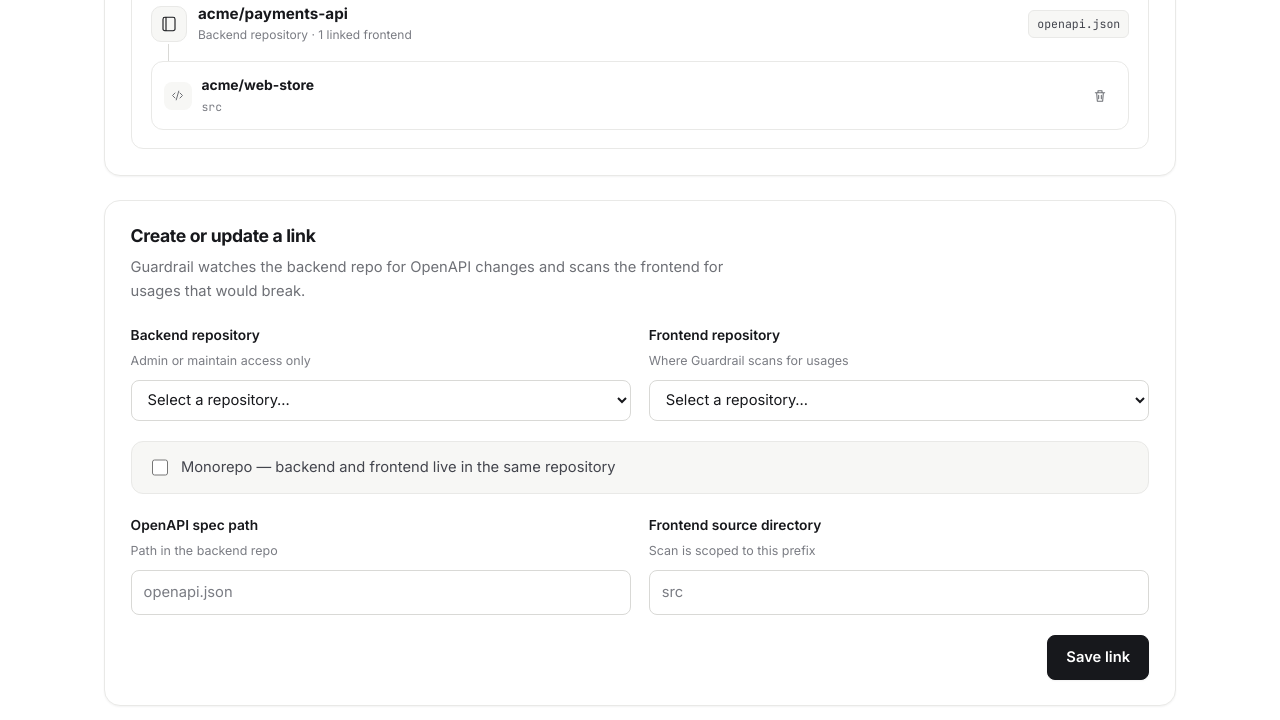
LinkManager › (e) switches the submit label to "Update link" with the replace hint when the selected pair already exists
(page scrolled)
Check: the text "acme/payments-api" is shown, box [198, 4, 348, 23]
Check: the button "Save link" is shown, box [1047, 635, 1149, 680]
Select "acme/payments-api" in the dropdown labelled "Backend repository Admin or maintain access only": (381,400) [131, 380, 631, 421]
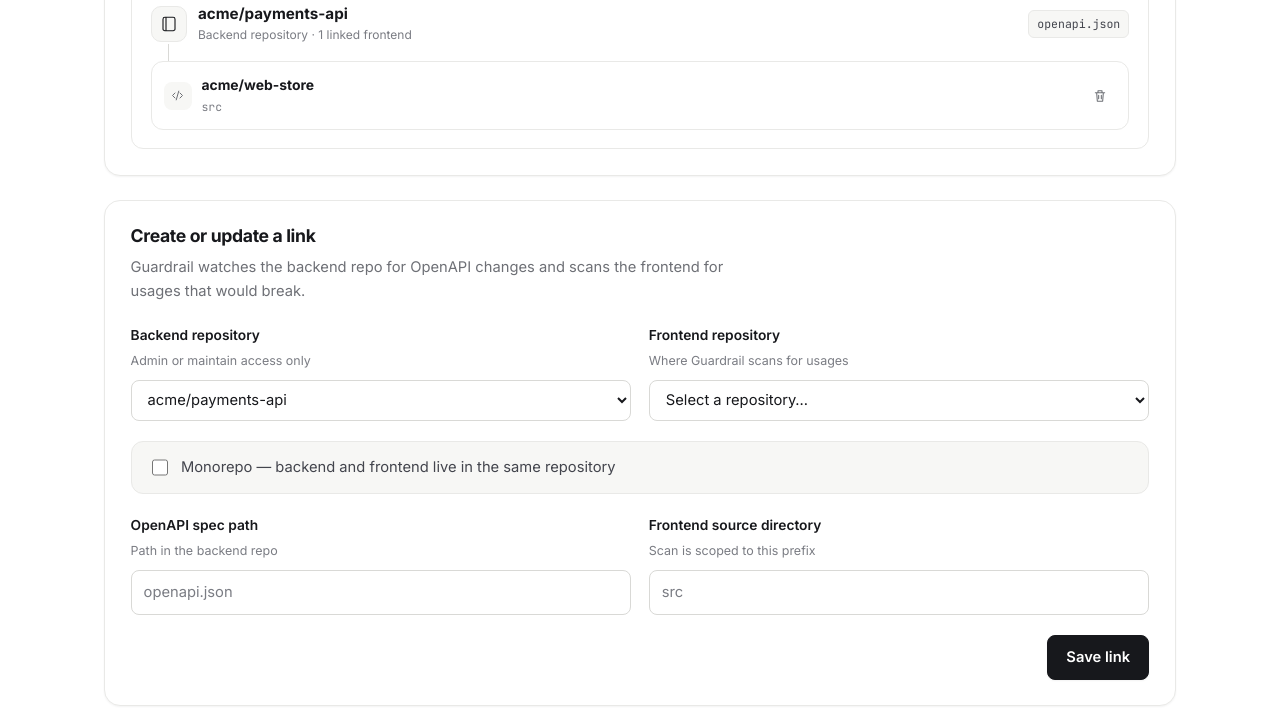
Select "acme/web-store" in the dropdown labelled "Frontend repository Where Guardrail scans for usages": (899,400) [649, 380, 1149, 421]
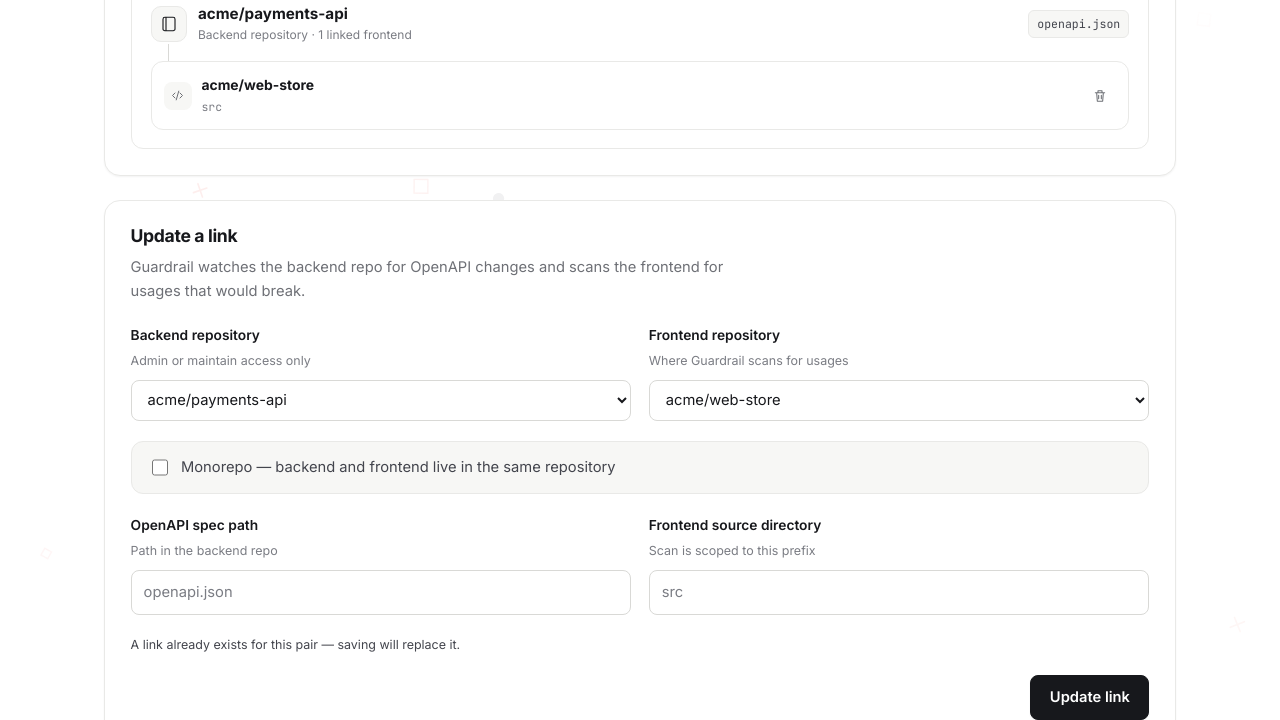
Check: the button "Update link" is shown, box [1030, 675, 1149, 719]
Check: the text "A link already exists for this pair — saving will replace it." is shown, box [131, 637, 460, 652]
